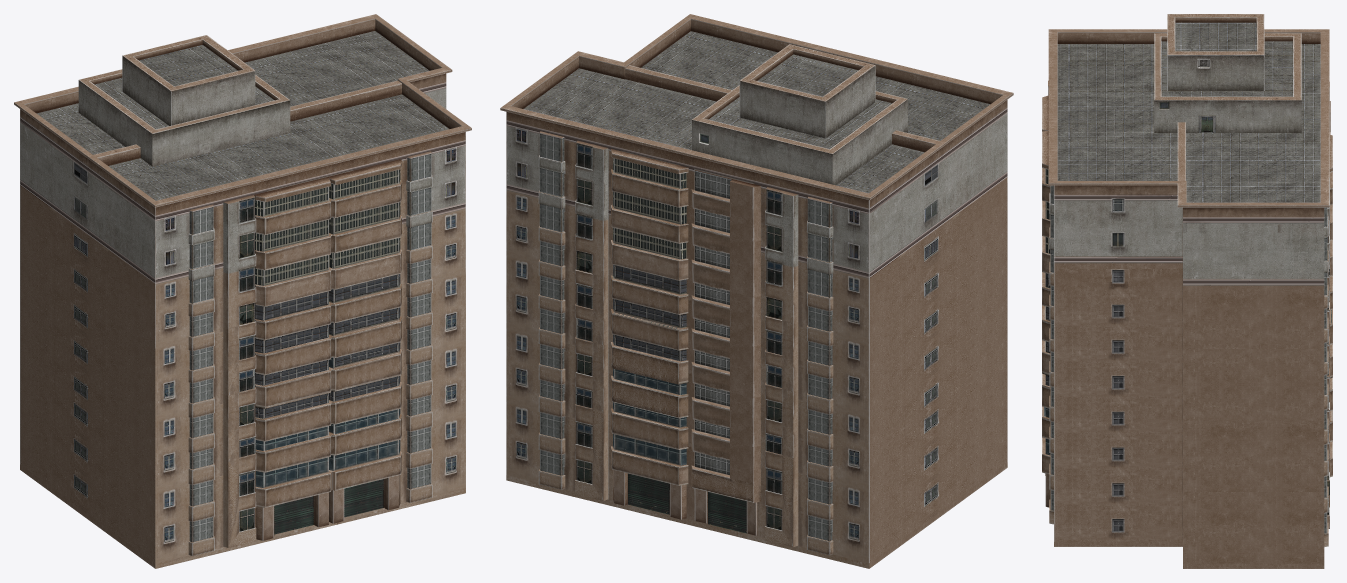
File: buildings_01.FBX
The picture shows the model from 3 angles, left to right: view 1: azimuth 30°, elevation 25°; view 2: azimuth 150°, elevation 25°; view 3: azimuth 270°, elevation 25°; orthographic projection. The views are drawn at different scales.
Visible parts, largest first — view 1: Object119; view 2: Object119; view 3: Object119.
Part boxes in pixels (left/top/right/bottom): Object119: left=14, top=14, right=471, bottom=568; Object119: left=500, top=14, right=1013, bottom=568; Object119: left=1042, top=14, right=1332, bottom=568.
Bounding box in the file's own units: 3350 × 2338 × 3700.
1 material, 1 textured.
